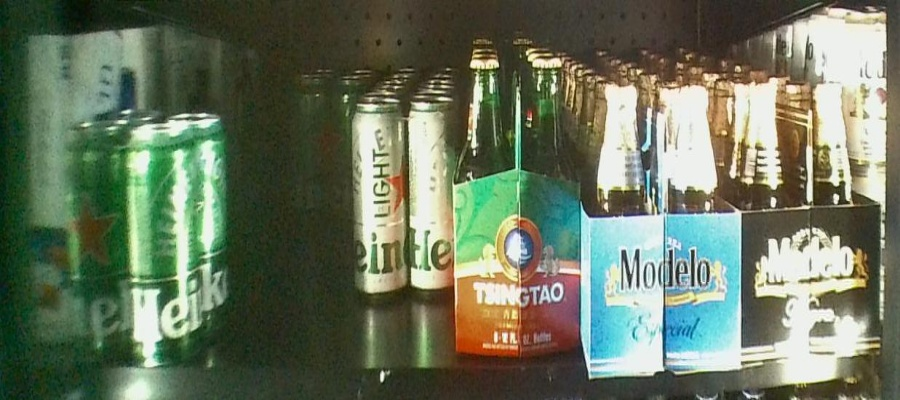bottle: (581, 77, 740, 378), (739, 83, 879, 363), (459, 55, 581, 362), (64, 126, 205, 363), (349, 103, 449, 301), (281, 74, 356, 223)
